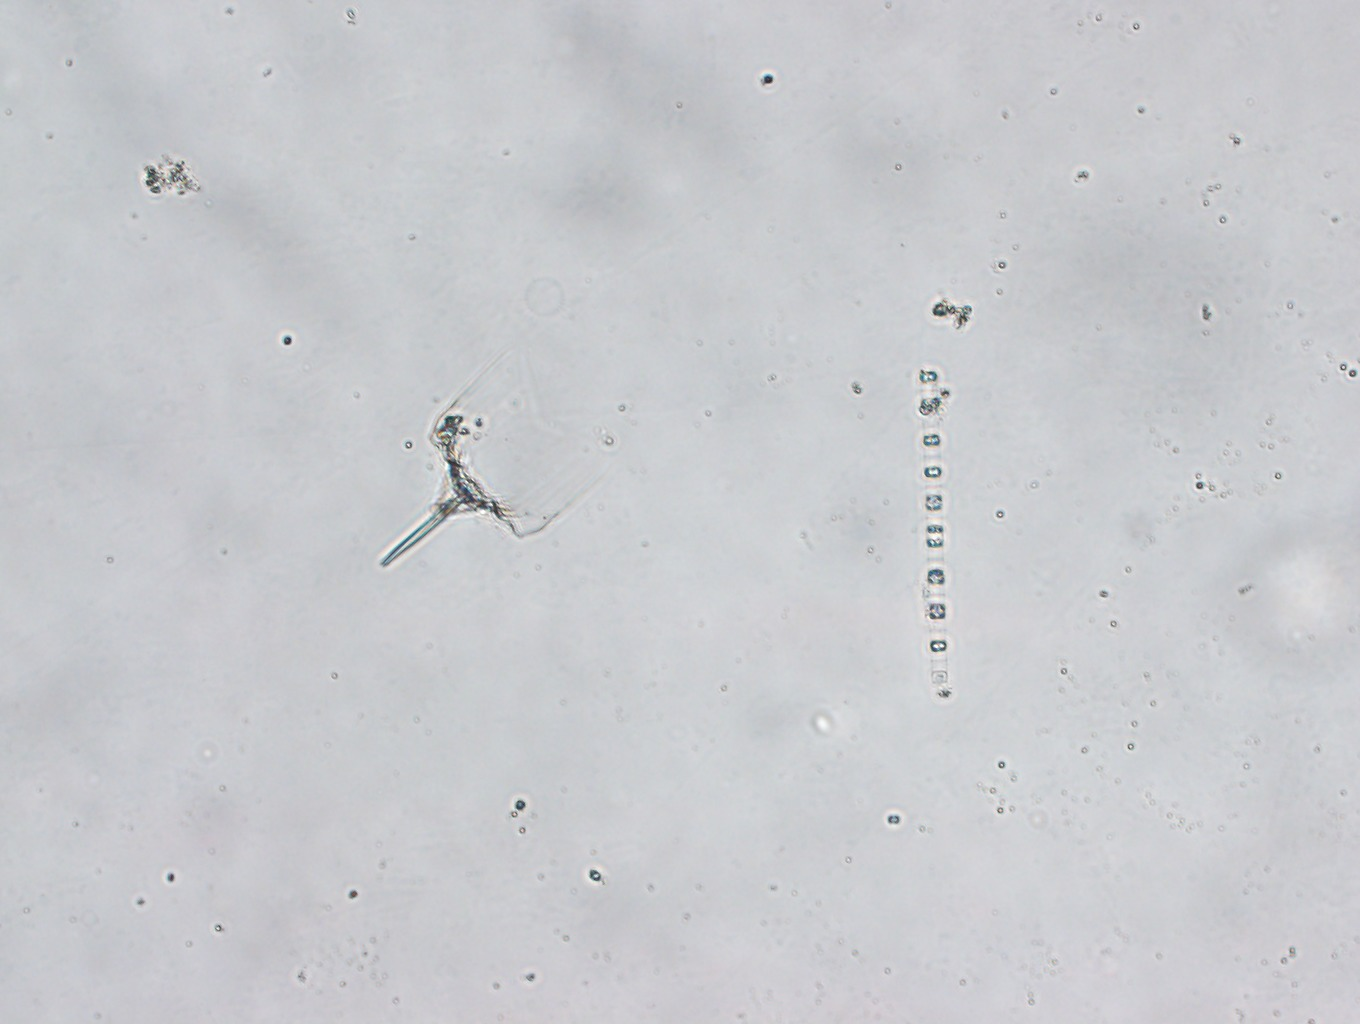ditylum: (377, 349, 612, 573)
skeletonema: (916, 367, 953, 692)
